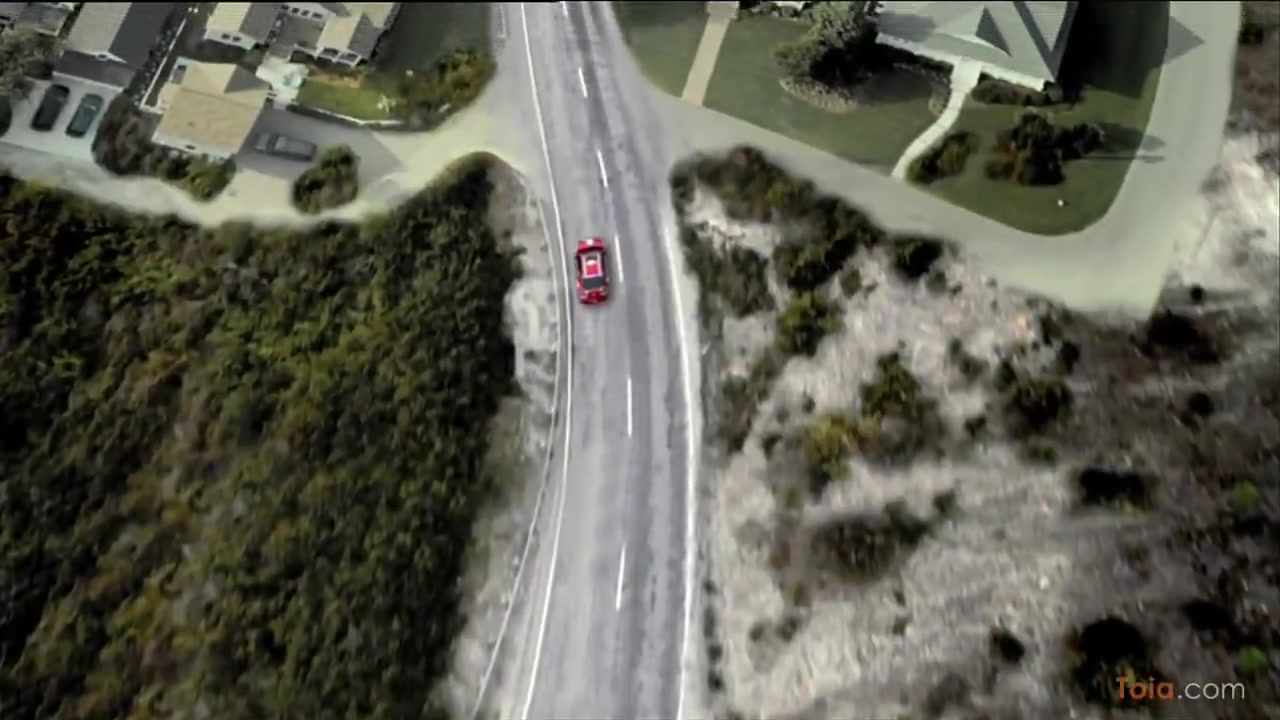car: (570, 234, 616, 311)
